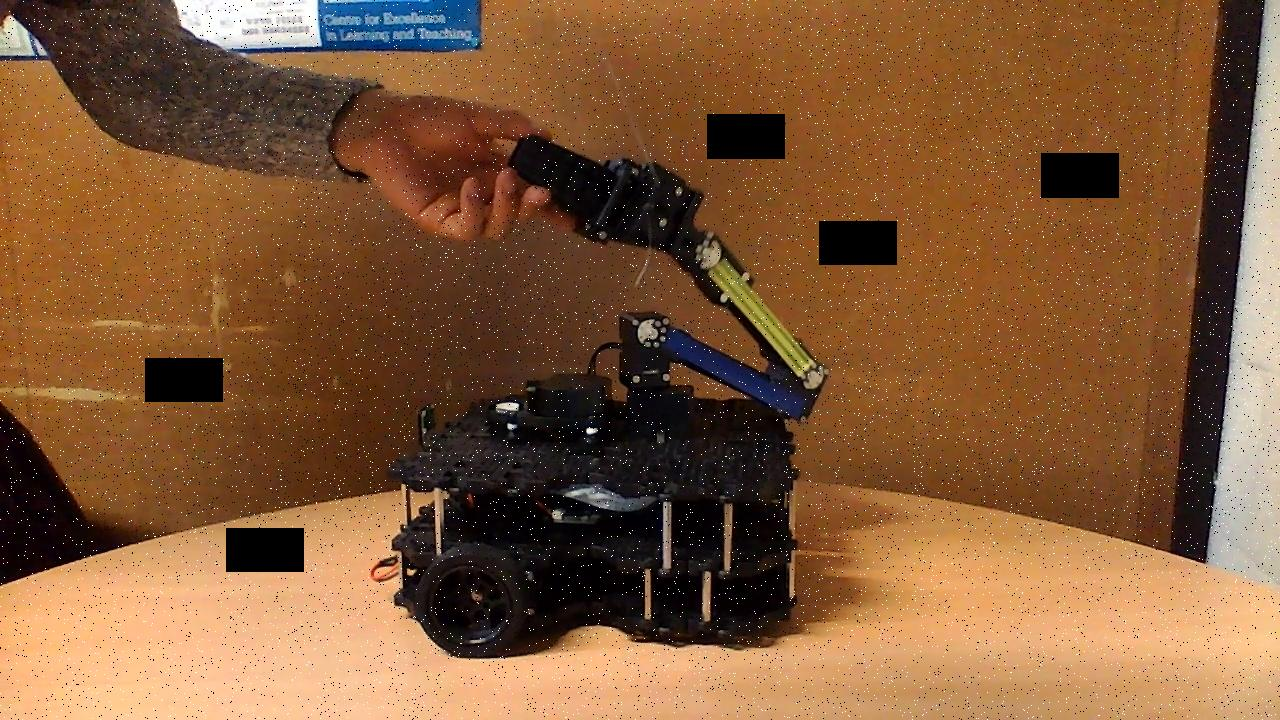Arm: (634, 310, 811, 423)
Hand: (506, 132, 722, 269)
Wrist: (693, 232, 830, 391)
base: (368, 372, 804, 662)
